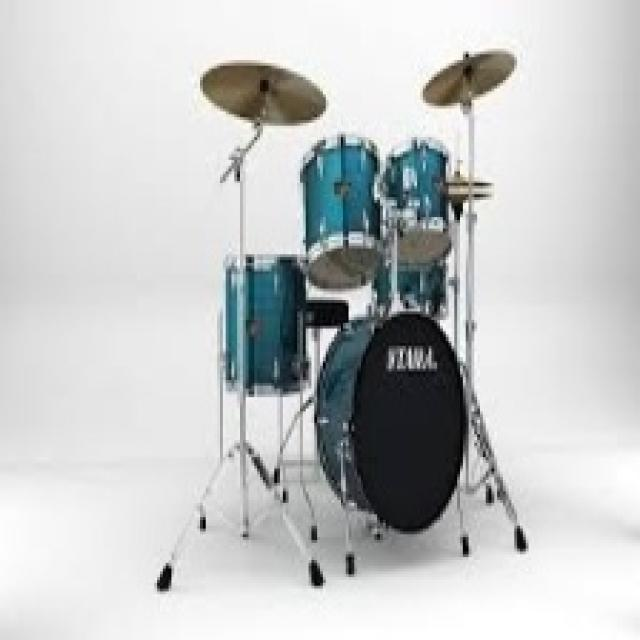drums: (182, 44, 547, 582)
